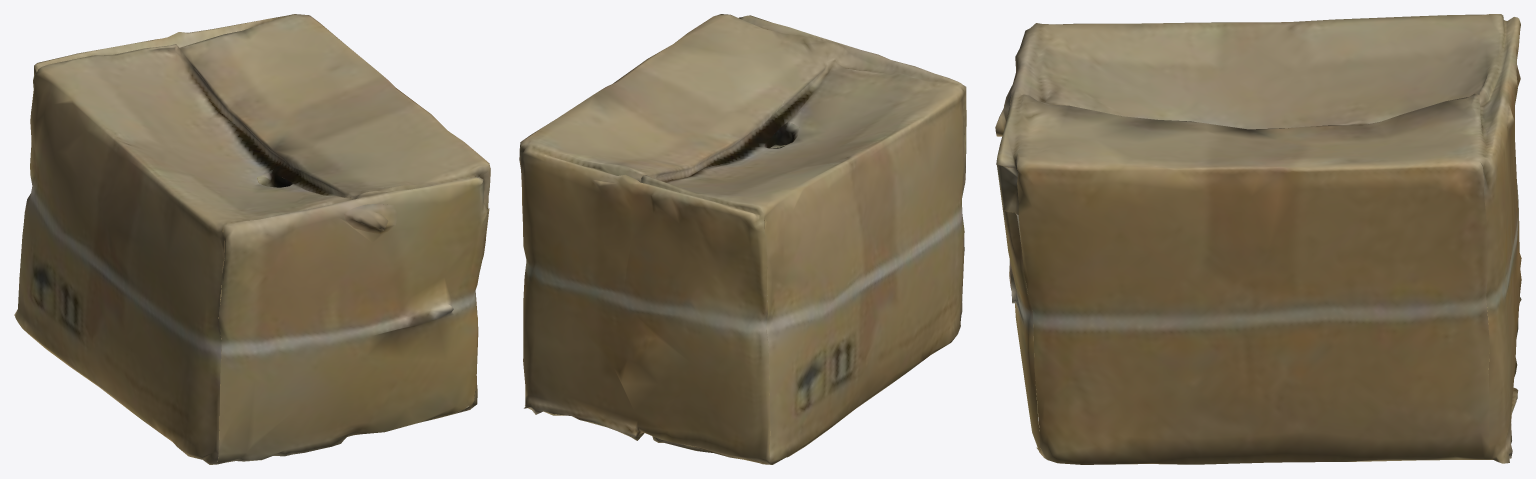
Rendered from cardboard_box_01.glb.
The picture shows the model from 3 angles, left to right: view 1: azimuth 30°, elevation 25°; view 2: azimuth 150°, elevation 25°; view 3: azimuth 270°, elevation 25°; orthographic projection. The views are drawn at different scales.
Visible parts, largest first — view 1: cardboard_box_01; view 2: cardboard_box_01; view 3: cardboard_box_01.
Boxes of the visible parts, bbox=[...] form: cardboard_box_01: bbox=[14, 14, 490, 464]; cardboard_box_01: bbox=[519, 14, 966, 464]; cardboard_box_01: bbox=[995, 14, 1521, 464].
Bounding box in the file's own units: 0.387 × 0.3416 × 0.5159.
1 material, 1 textured.
